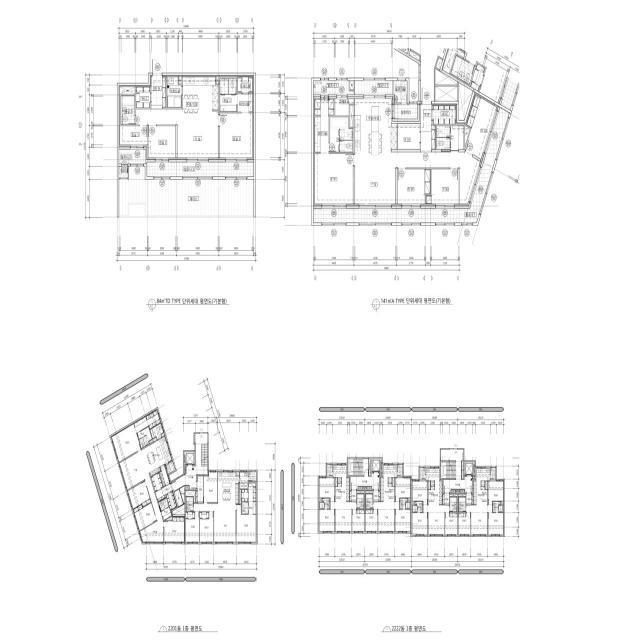space_balconi: (314, 107, 509, 223), (147, 162, 254, 176), (314, 81, 354, 94), (355, 81, 393, 94), (119, 149, 146, 164), (166, 461, 175, 474), (249, 471, 256, 481)
space_bedroom: (465, 92, 498, 160), (314, 154, 353, 206), (220, 113, 254, 160), (426, 169, 459, 206), (398, 169, 430, 206), (111, 423, 141, 462), (147, 126, 175, 160), (237, 504, 256, 543), (127, 481, 151, 509), (133, 503, 156, 531), (119, 126, 147, 147), (398, 124, 420, 149), (164, 517, 185, 543), (204, 471, 217, 502), (200, 512, 213, 543), (186, 512, 199, 543), (395, 477, 411, 501), (488, 480, 504, 504), (319, 477, 334, 501), (412, 480, 427, 504), (488, 513, 504, 535), (395, 510, 411, 532), (319, 510, 334, 532), (412, 513, 427, 535), (365, 510, 378, 532), (445, 513, 457, 535), (458, 513, 470, 535), (352, 510, 364, 532), (200, 512, 209, 518), (186, 512, 194, 518)
space_dressroom: (314, 117, 329, 152), (314, 97, 334, 115), (146, 409, 161, 429), (238, 94, 254, 112), (238, 76, 254, 93), (249, 483, 256, 501), (242, 490, 248, 501)
space_elevator: (184, 452, 195, 465), (465, 462, 475, 475), (372, 459, 382, 472)
space_elevator_hall: (171, 434, 207, 491), (441, 449, 472, 492), (351, 459, 379, 489)
space_front: (419, 104, 435, 152), (150, 76, 166, 109), (433, 104, 457, 124), (136, 86, 150, 108), (155, 483, 172, 501), (151, 473, 163, 491), (166, 491, 177, 510), (196, 476, 203, 503), (373, 490, 380, 501), (466, 494, 473, 504), (350, 490, 356, 501), (443, 494, 449, 504)
space_kitchen: (355, 97, 397, 154), (183, 76, 218, 112), (142, 436, 172, 476), (218, 471, 239, 504), (426, 467, 443, 505), (380, 464, 397, 502), (333, 464, 350, 502), (473, 468, 490, 505)
space_living_room: (355, 152, 481, 206), (136, 109, 218, 159), (119, 450, 163, 543), (194, 504, 236, 543), (423, 505, 449, 535), (330, 502, 356, 532), (466, 505, 492, 535), (373, 502, 399, 532)
space_multipurpose_space: (167, 76, 181, 107), (335, 97, 354, 115)
space_other: (411, 48, 446, 101), (459, 83, 473, 120), (435, 69, 458, 85), (435, 86, 458, 101), (395, 104, 417, 119), (159, 465, 170, 487), (150, 423, 164, 440), (240, 471, 249, 489), (174, 489, 183, 507), (173, 504, 185, 515), (119, 86, 135, 94), (409, 50, 420, 61), (186, 490, 195, 502), (465, 126, 470, 146), (350, 105, 354, 127), (180, 486, 185, 503), (436, 58, 443, 69), (149, 437, 157, 443), (350, 81, 354, 89), (165, 516, 172, 520), (365, 490, 373, 493), (179, 76, 182, 84), (216, 76, 219, 84), (357, 490, 364, 493), (161, 433, 165, 437), (485, 481, 487, 489), (335, 478, 337, 486), (462, 462, 463, 478), (369, 459, 370, 475), (428, 481, 430, 489), (458, 494, 466, 496), (184, 466, 186, 474), (236, 471, 239, 476), (450, 494, 457, 496), (240, 490, 241, 504), (185, 486, 189, 489), (367, 487, 372, 489), (408, 498, 411, 501), (501, 501, 504, 504), (451, 490, 455, 492), (393, 478, 394, 486), (358, 487, 362, 489), (460, 490, 464, 492), (363, 487, 367, 489), (456, 490, 460, 492), (319, 498, 321, 501), (412, 501, 414, 504), (380, 474, 382, 475), (473, 477, 475, 478)
space_outdoor_room: (394, 81, 407, 102), (119, 166, 128, 178), (420, 467, 425, 480), (491, 467, 496, 480), (398, 464, 403, 476), (327, 464, 332, 476)
space_staircase: (348, 459, 363, 475), (441, 462, 456, 478), (201, 444, 207, 466)
space_toilet: (330, 117, 353, 152), (121, 96, 135, 124), (450, 126, 464, 149), (137, 427, 152, 448), (220, 94, 237, 111), (134, 416, 148, 433), (228, 78, 237, 94), (161, 507, 172, 520), (437, 138, 450, 149), (437, 126, 450, 137), (220, 78, 228, 94), (186, 497, 193, 511), (366, 494, 373, 508), (459, 497, 466, 511), (450, 497, 457, 511), (357, 494, 364, 508), (400, 498, 408, 509), (322, 498, 330, 509), (249, 502, 256, 514), (415, 502, 423, 512), (493, 502, 500, 512), (163, 498, 169, 509), (159, 500, 165, 511), (242, 502, 248, 508), (242, 508, 248, 514), (320, 502, 324, 509), (413, 505, 417, 512), (499, 505, 503, 512), (406, 502, 410, 509)
